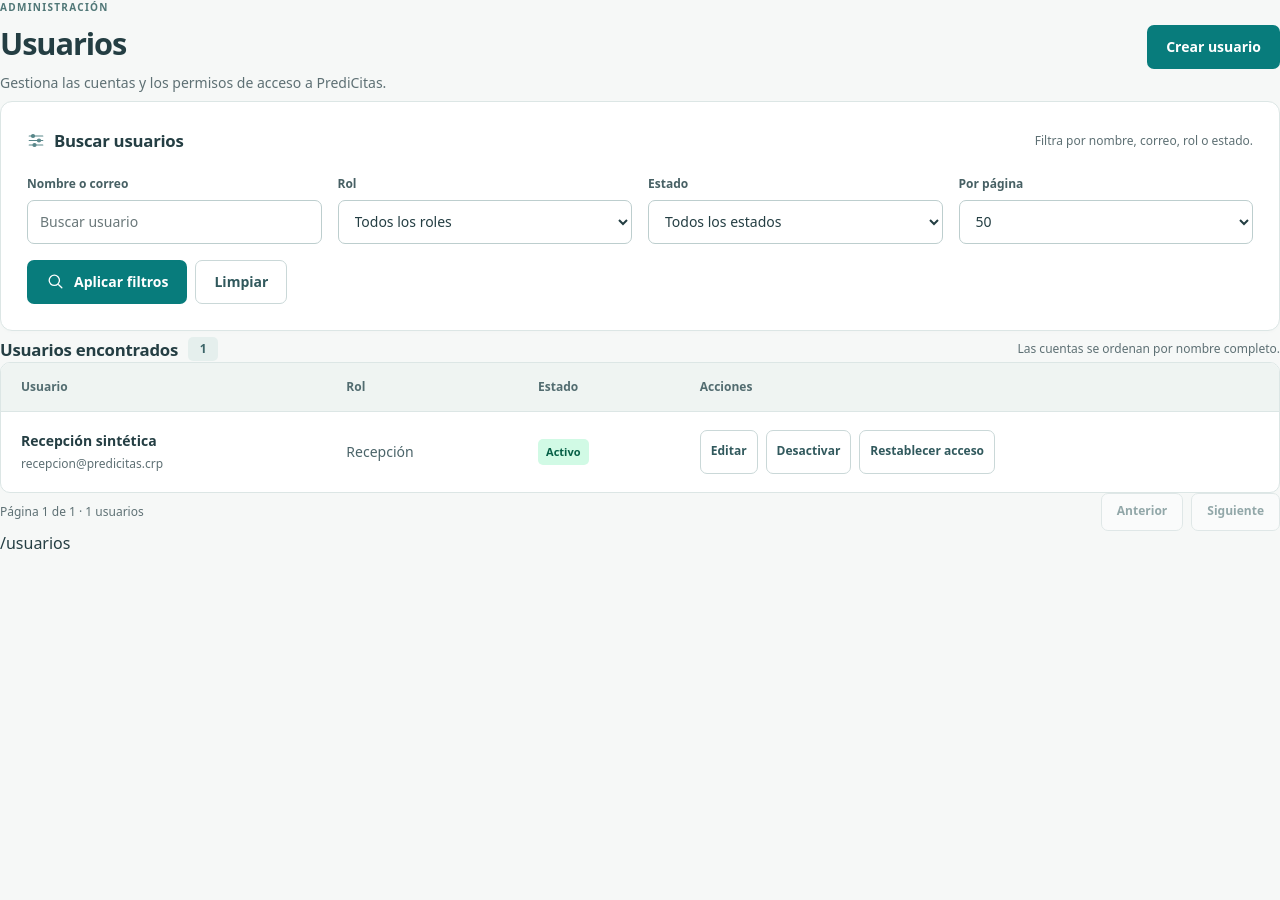
it: Usuarios: crear y editar › crea con nombres exactos del contrato y correo normalizado sin conservar la clave
The image size is (1280, 900).
Check: the table is shown, box [1, 363, 1279, 492]
Click the button "Crear usuario". click: click(1214, 47)
box: [1147, 25, 1279, 69]
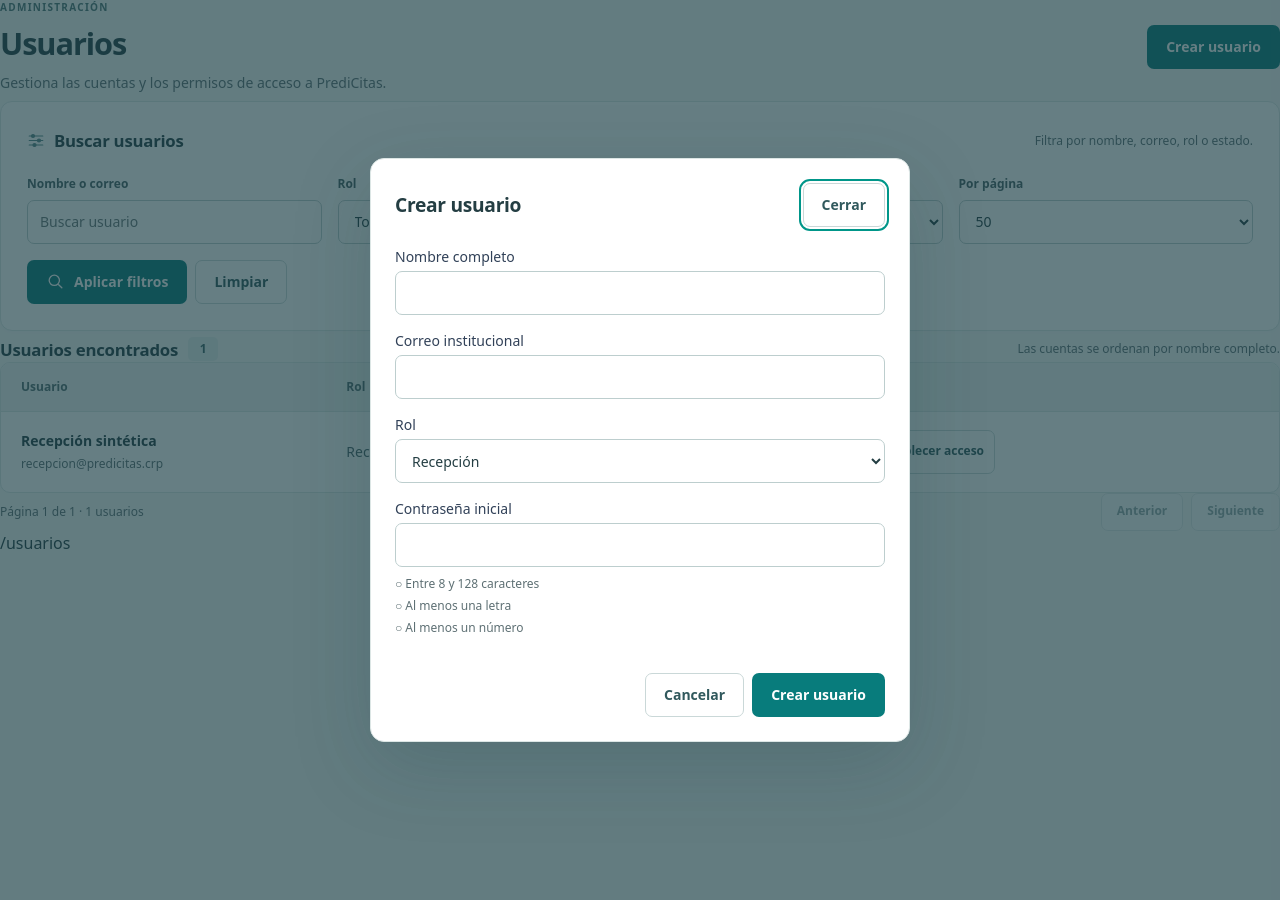
Type "Usuario sintético nuevo" into the field labelled "Nombre completo". click: (640, 293)
box: [395, 271, 885, 315]
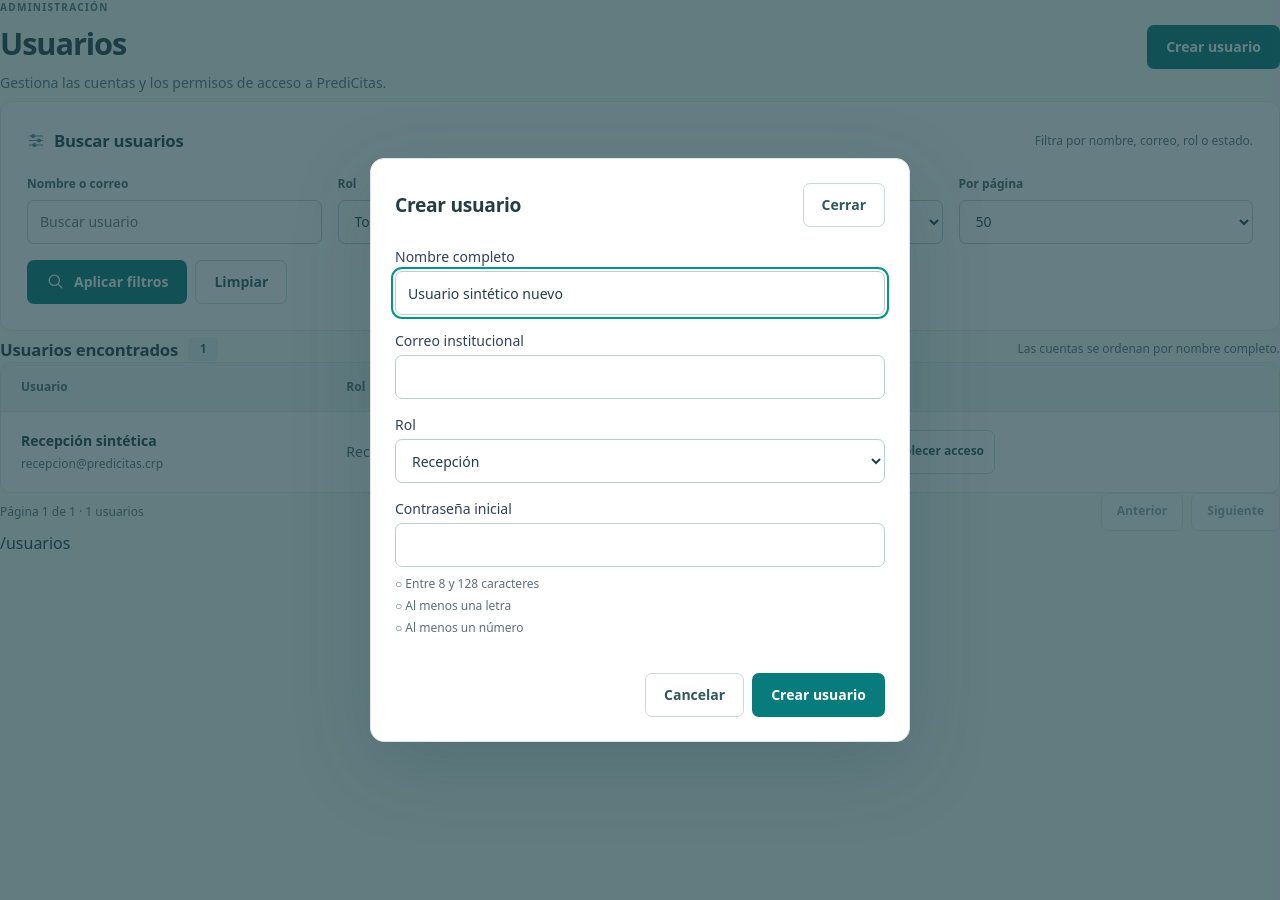
Type "NUEVO@PREDICITAS.CRP" into the field labelled "Correo institucional". click: (640, 377)
box: [395, 355, 885, 399]
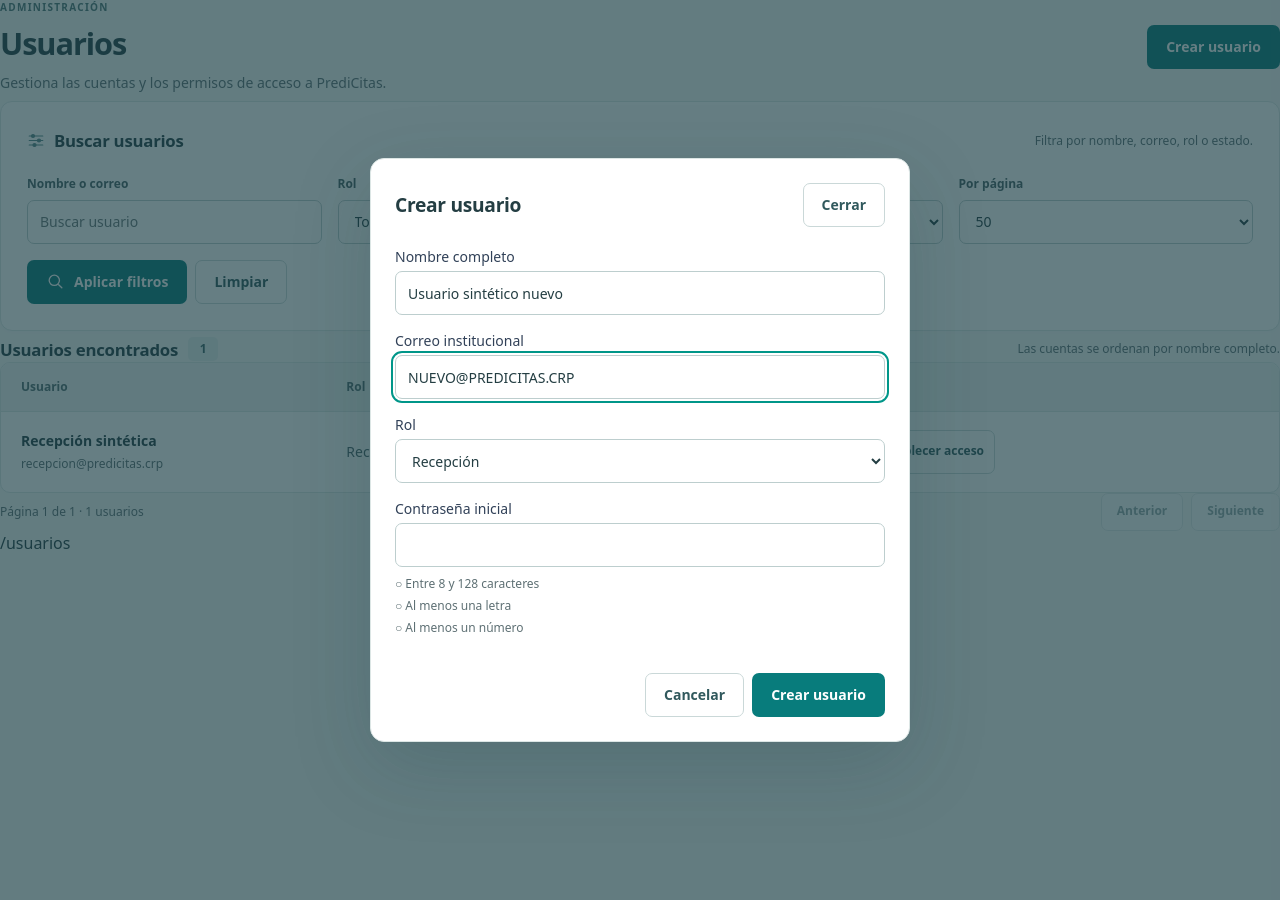
Type "ClaveSegura2026" into the password field labelled "Contraseña inicial". click: (640, 545)
box: [395, 523, 885, 567]
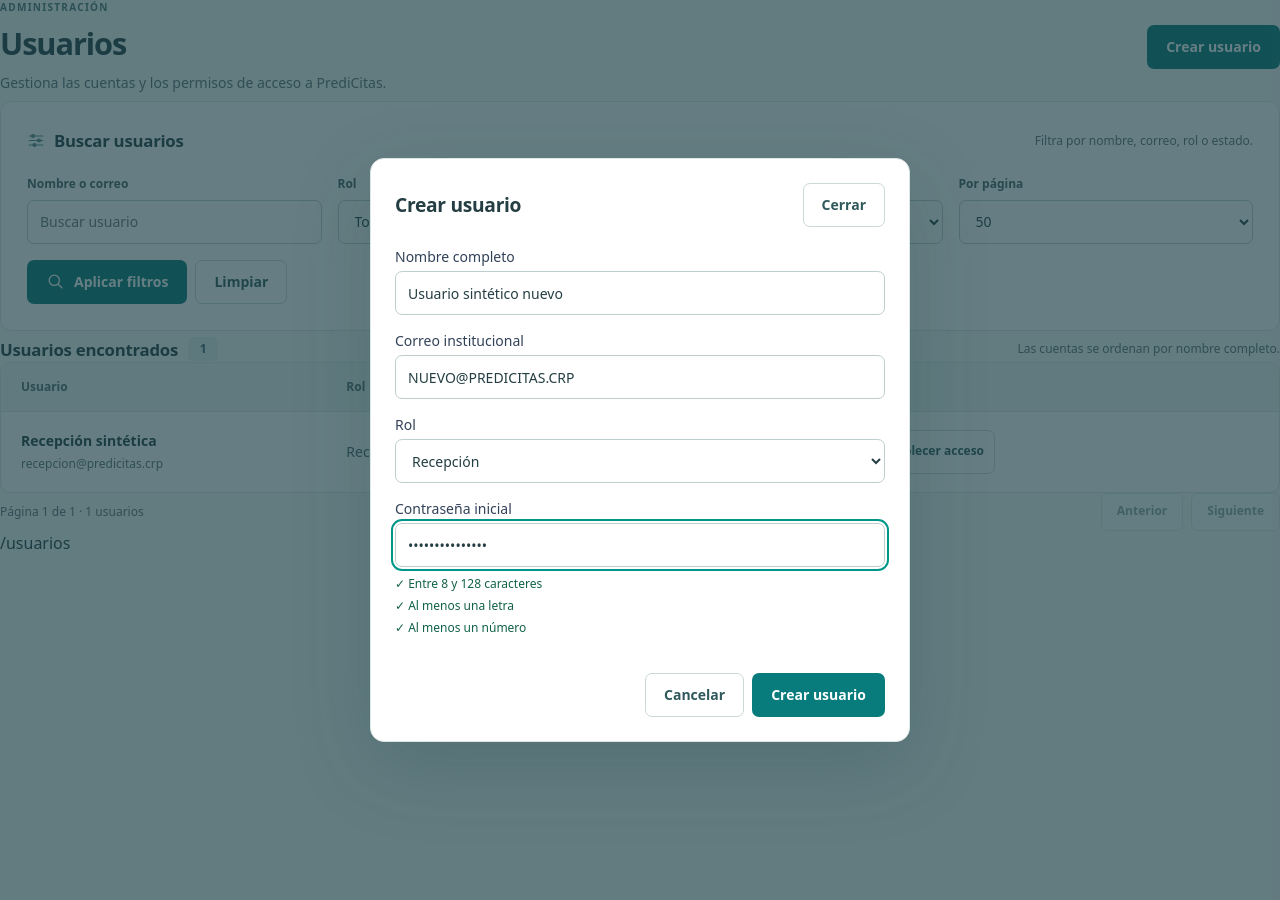
Check: the list item "✓ Entre 8 y 128 caracteres" is shown, box [395, 575, 542, 592]
Click the button "Crear usuario". click: click(819, 695)
box: [752, 673, 885, 717]
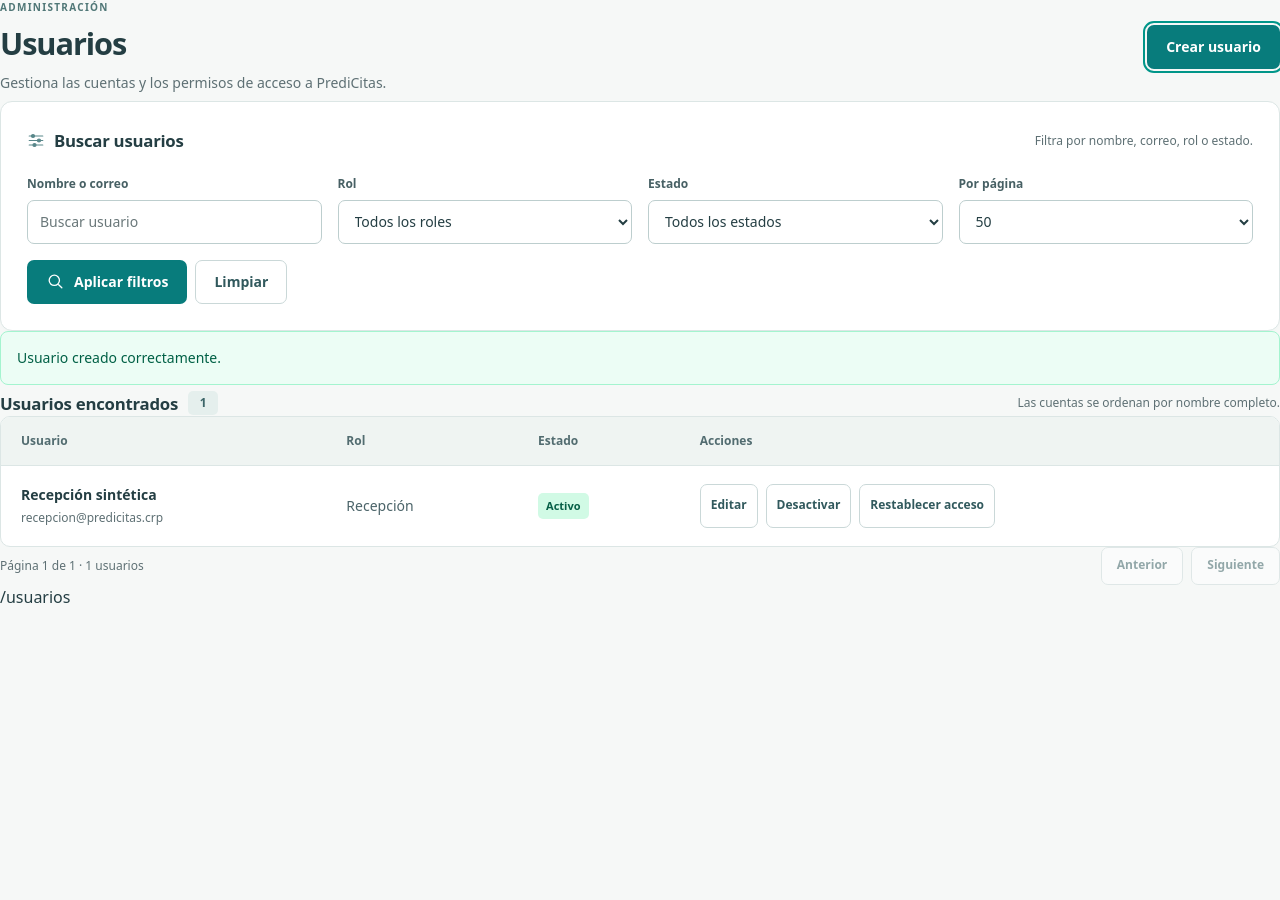
Check: the text "Usuario creado correctamente." is shown, box [0, 331, 1279, 385]
Check: the dialog is gone
